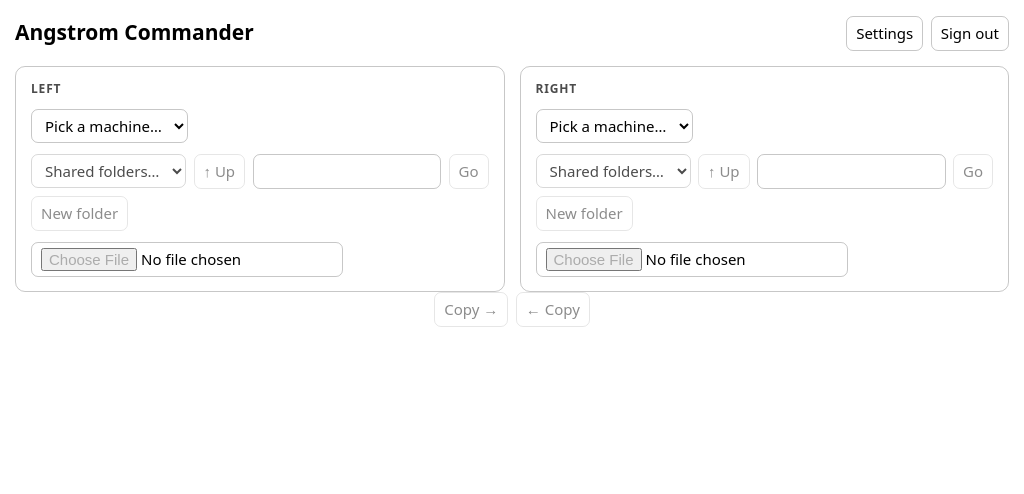
Test: new folder prompts for a name and creates it in the current path
Select "Home PC" in the dropdown named "Left: machine". click: (110, 126)
box: [31,108,188,143]
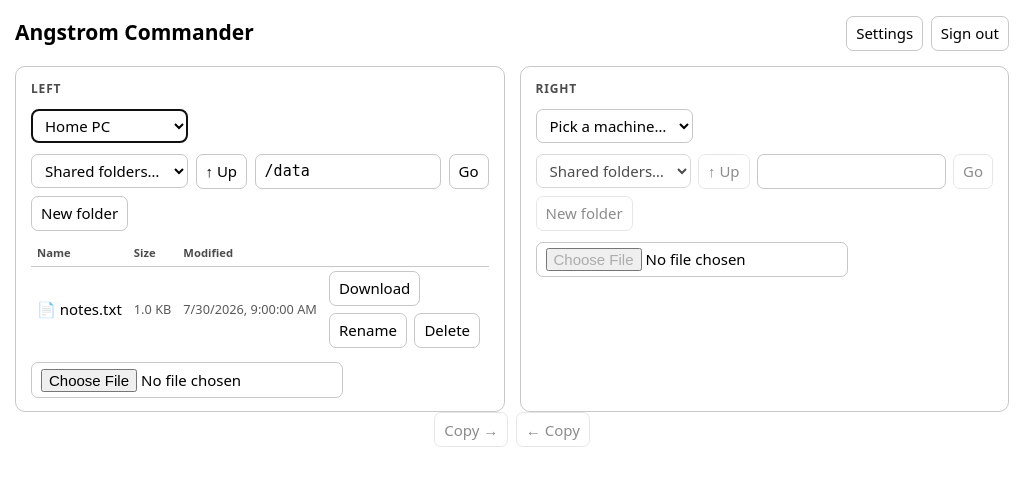
Click the button "New folder" below "Left". click: (80, 214)
box: [31,196,128,231]
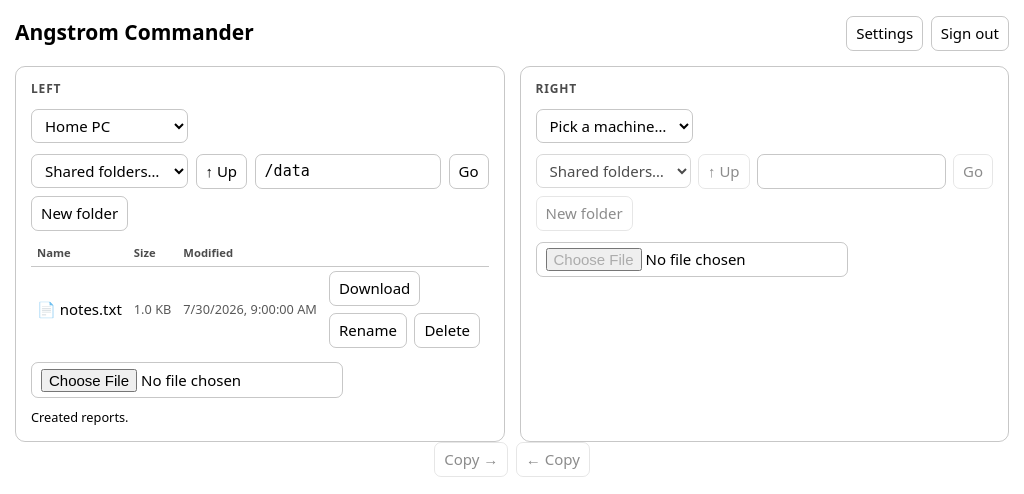
Result: the text "Created reports." is shown at [31,408,128,426]
